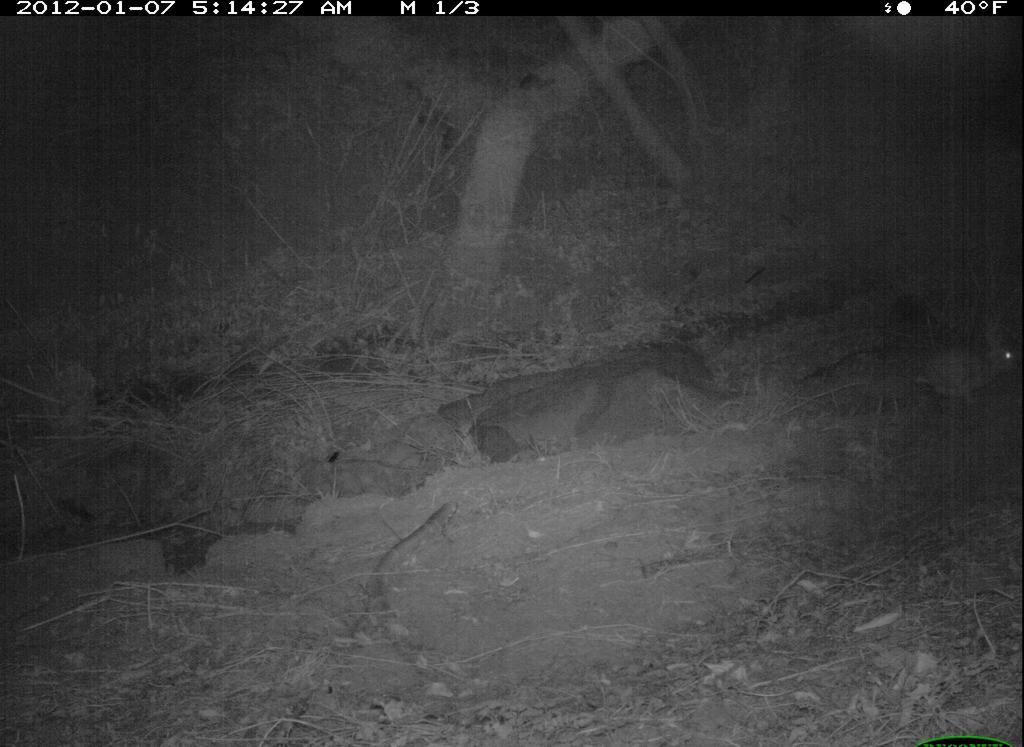rabbit: (914, 315, 1021, 417)
